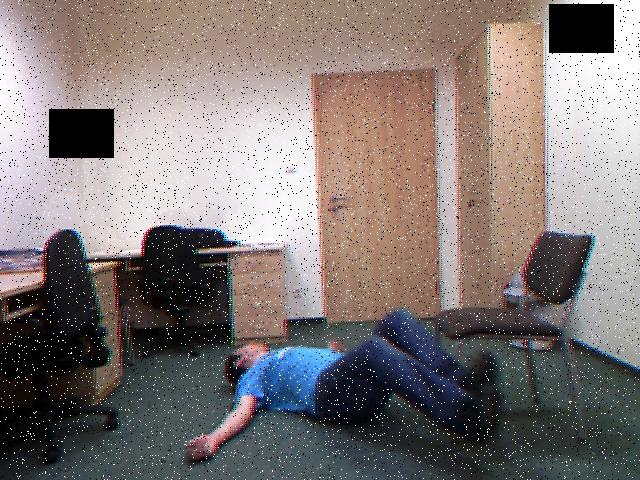fall: (185, 295, 511, 480)
